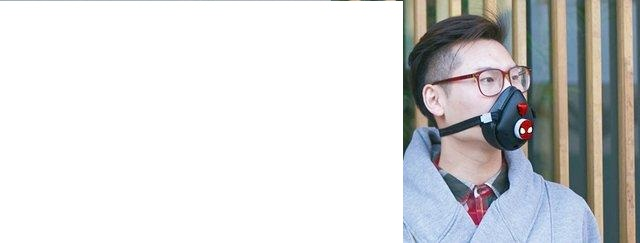face_mask: (451, 44, 534, 145)
